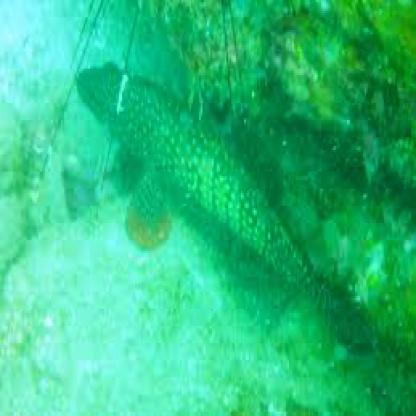grouper: (72, 57, 345, 310)
